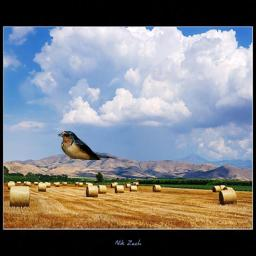Swallow: (58, 131, 117, 160)
